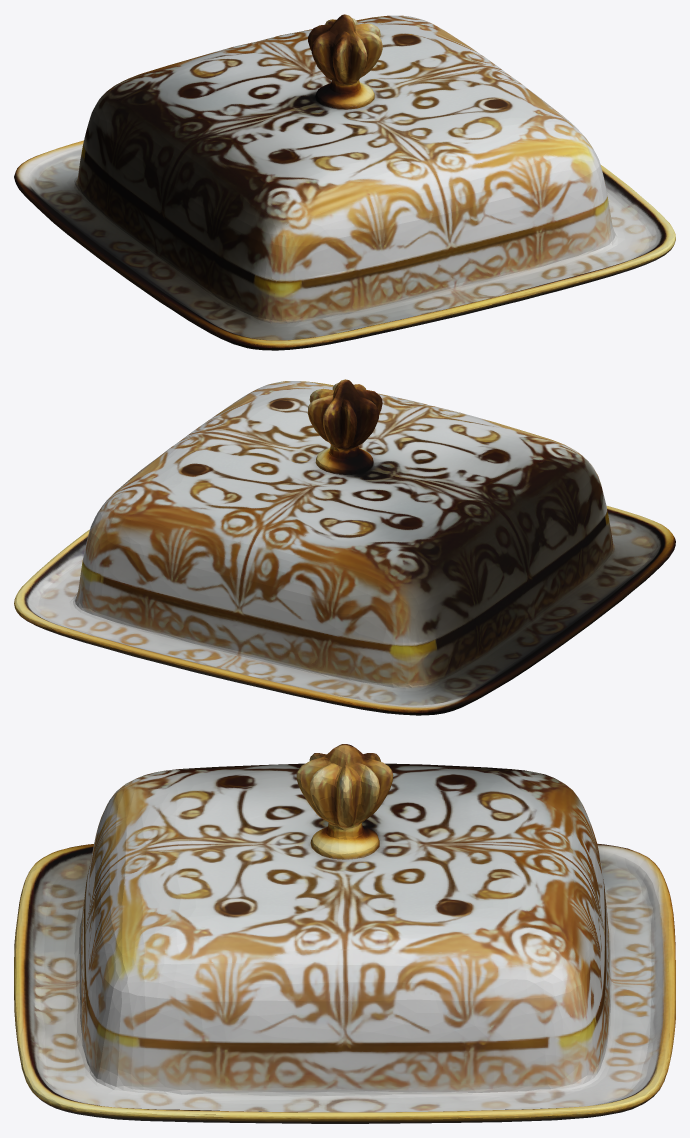
File: porcelain-butter-dish-art-deco.jpeg.glb
The picture shows the model from 3 angles, top to bottom: view 1: azimuth 30°, elevation 25°; view 2: azimuth 150°, elevation 25°; view 3: azimuth 270°, elevation 25°; orthographic projection. The views are drawn at different scales.
Parts seen in each view (by area): view 1: world; view 2: world; view 3: world.
Part boxes in pixels (x1=…): world: x1=14, y1=14, x2=675, y2=350; world: x1=14, y1=379, x2=675, y2=715; world: x1=14, y1=744, x2=675, y2=1123.
Size of the model in its own units: 1 by 0.4669 by 1.
Materials: 1 (1 with a texture image).
